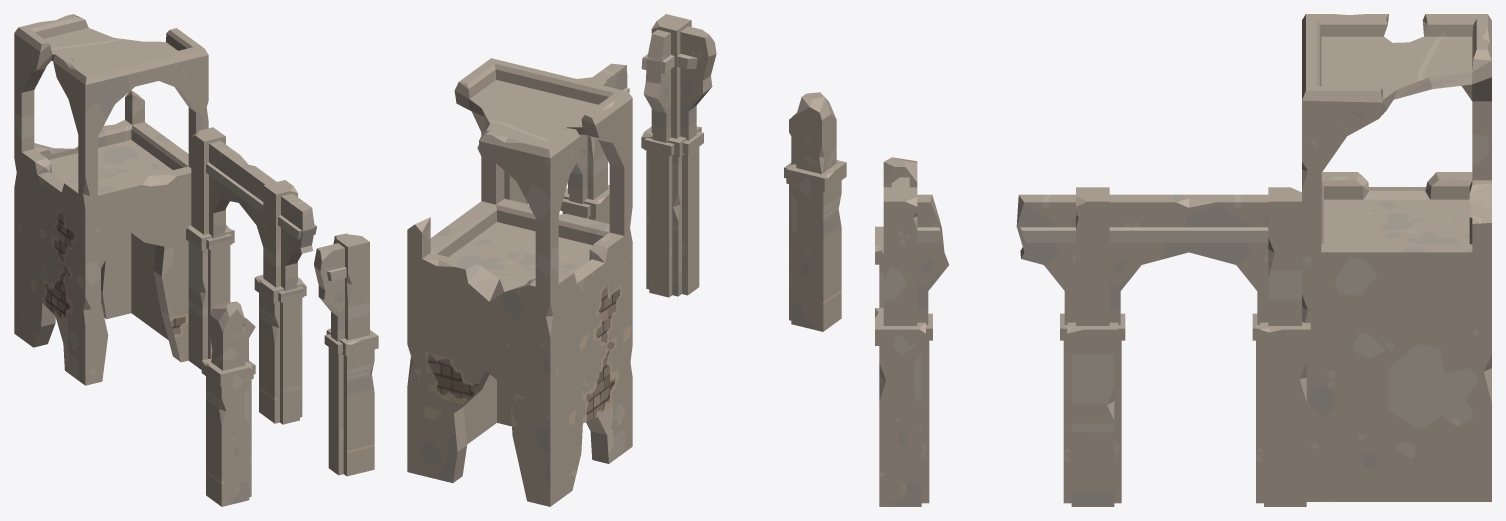
File: SM_Bld_Ruins_01.glb
3 renders of one model, left to right at view 1: azimuth 30°, elevation 25°; view 2: azimuth 150°, elevation 25°; view 3: azimuth 270°, elevation 25°, orthographic. The views are drawn at different scales.
Visible parts, largest first — view 1: SM_Bld_Ruins_01; view 2: SM_Bld_Ruins_01; view 3: SM_Bld_Ruins_01.
Boxes of the visible parts, <box> form: SM_Bld_Ruins_01: <box>14,14,378,506</box>; SM_Bld_Ruins_01: <box>407,14,846,506</box>; SM_Bld_Ruins_01: <box>875,14,1491,506</box>.
Bounding box in the file's own units: 3.39 × 6.3 × 8.6.
1 material, 1 textured.
